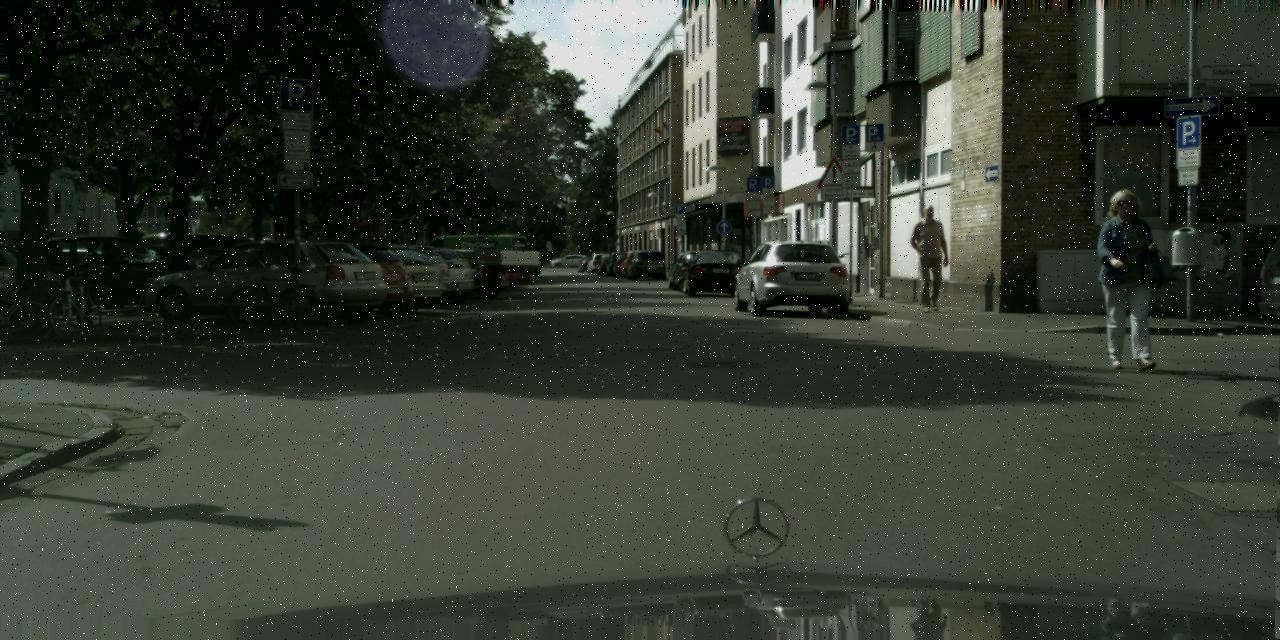ped: (1090, 189, 1162, 368), (908, 203, 952, 311)
